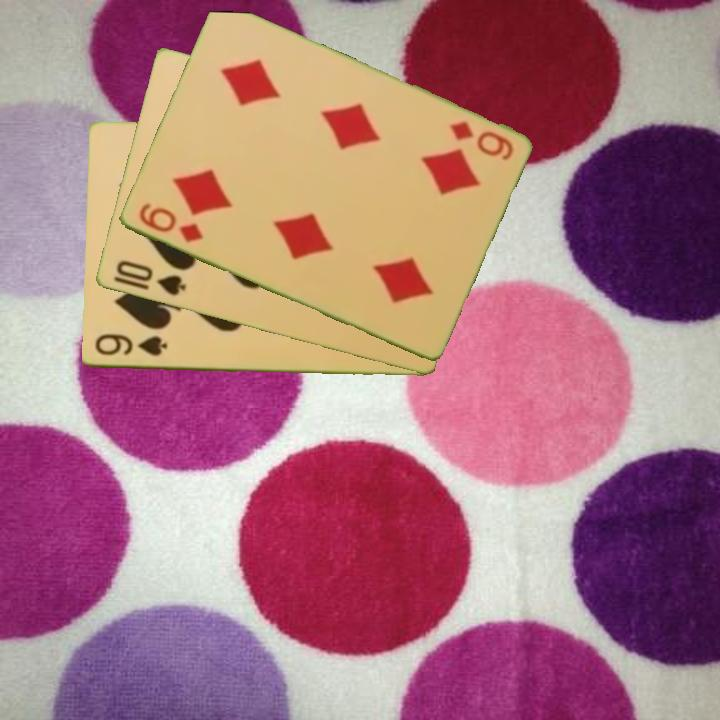10s: (112, 257, 189, 299)
6d: (134, 199, 206, 246), (445, 117, 516, 164)
9s: (91, 330, 170, 359)
